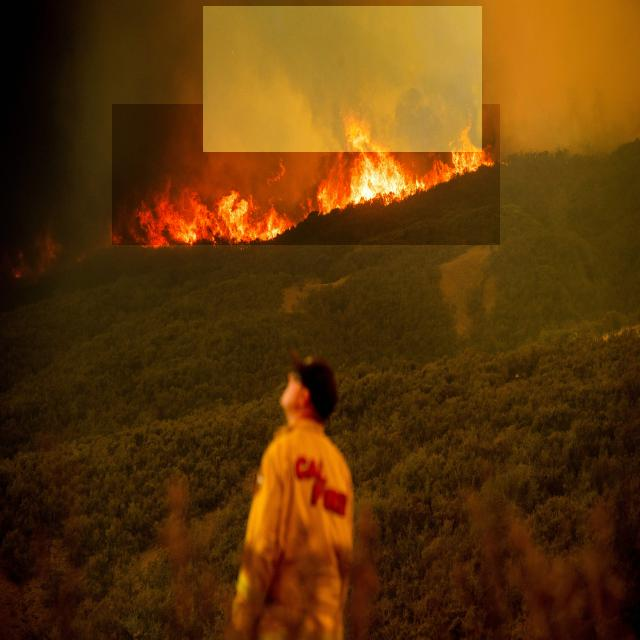Fire: (112, 104, 500, 245)
Smoke: (203, 6, 482, 152)
